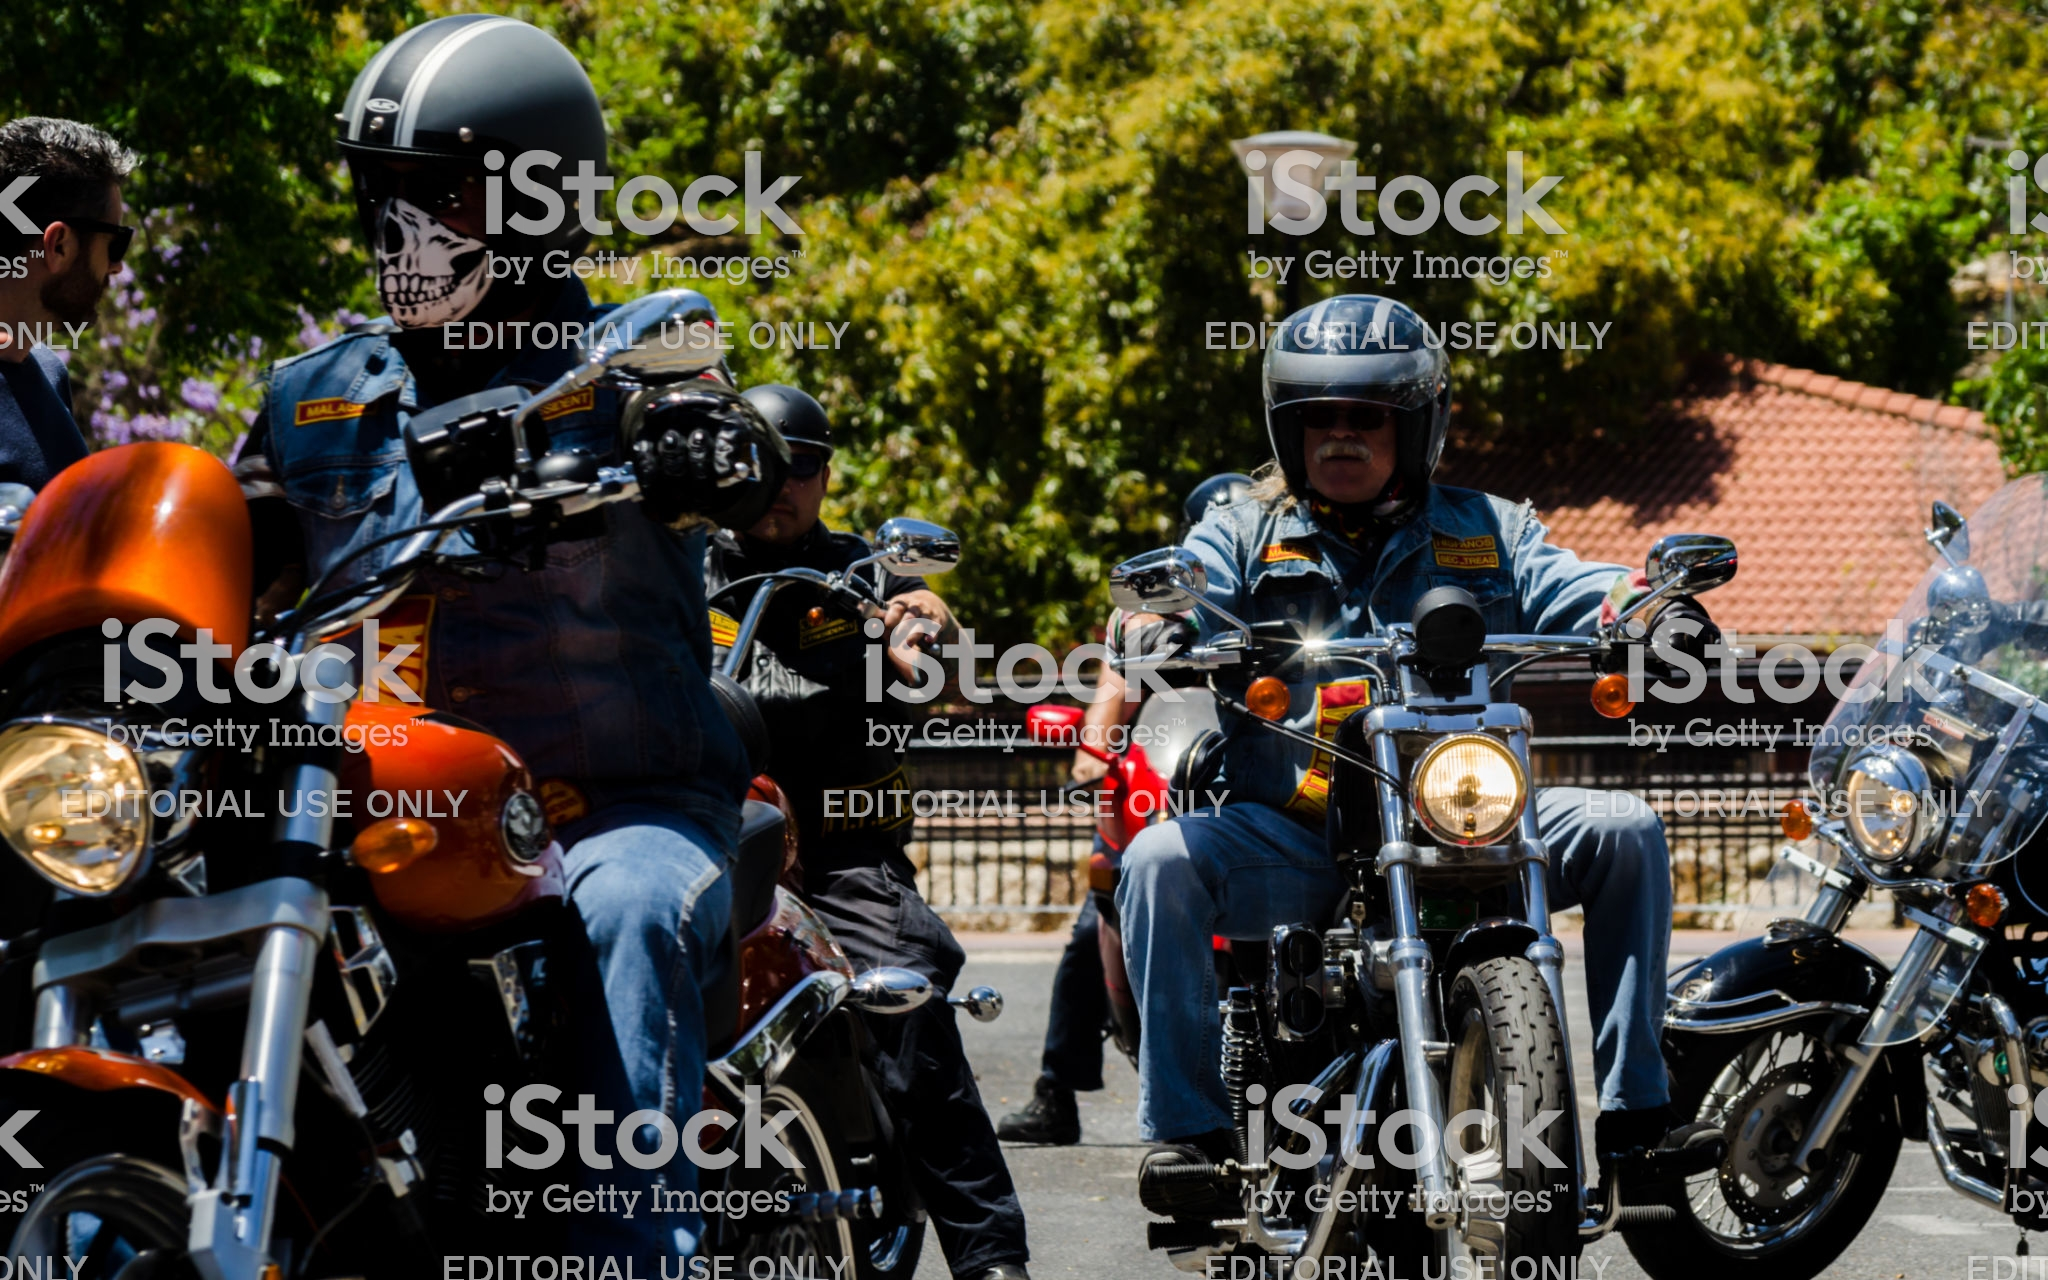helmet: (292, 13, 605, 240), (1203, 274, 1463, 442)
